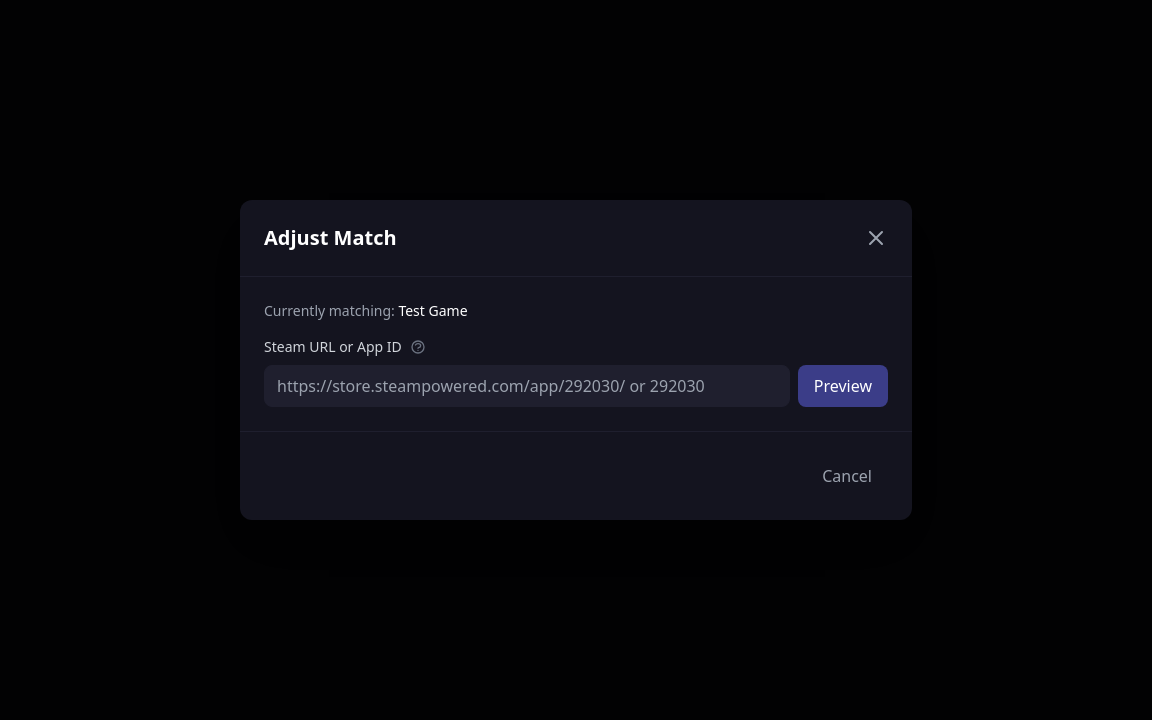
AdjustMatchModal › shows error on preview failure
Step 1. Type "invalid" into the field with placeholder "https://store.steampowered.com/app/292030/ or 292030" → (527, 386), box [264, 365, 790, 407]
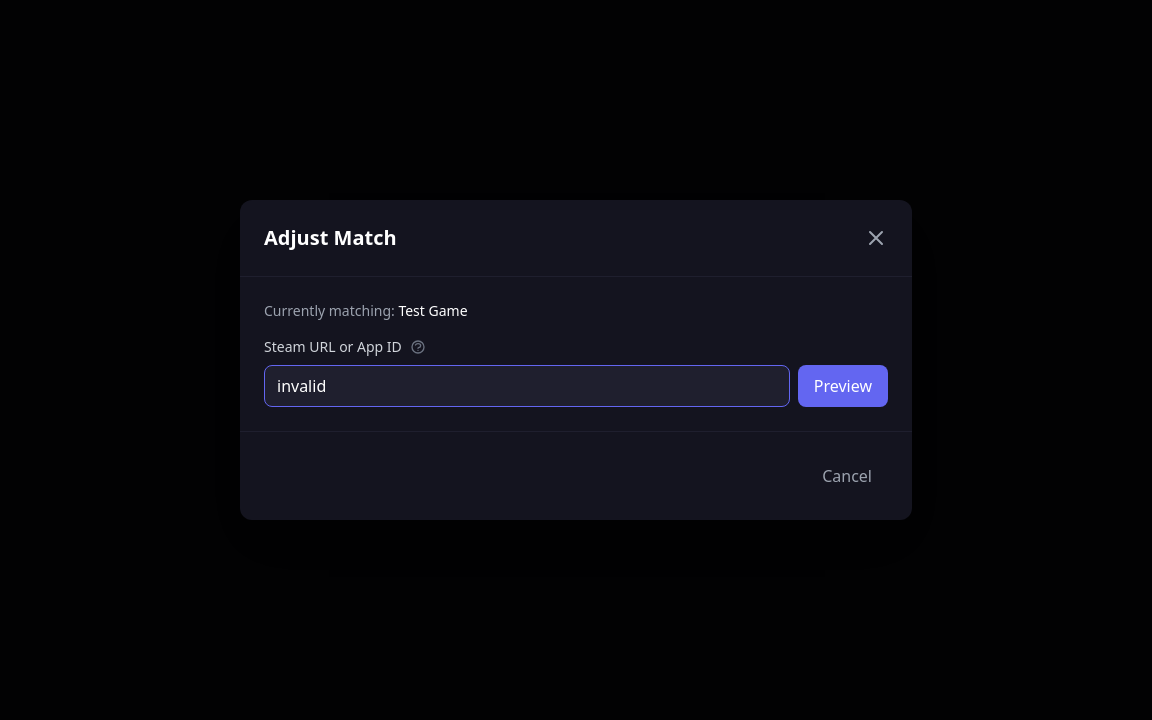
Step 2. Click the button "Preview" → (843, 386), box [798, 365, 888, 407]
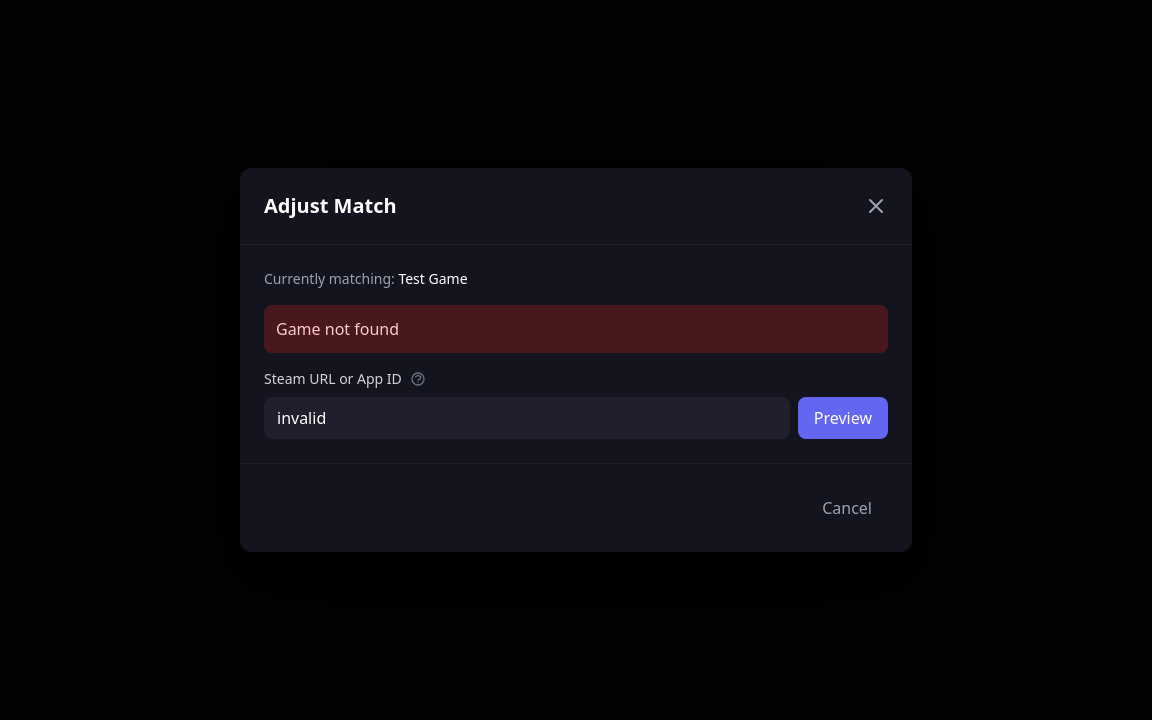
Expected: the text "Game not found" is shown, [264, 305, 888, 353]
